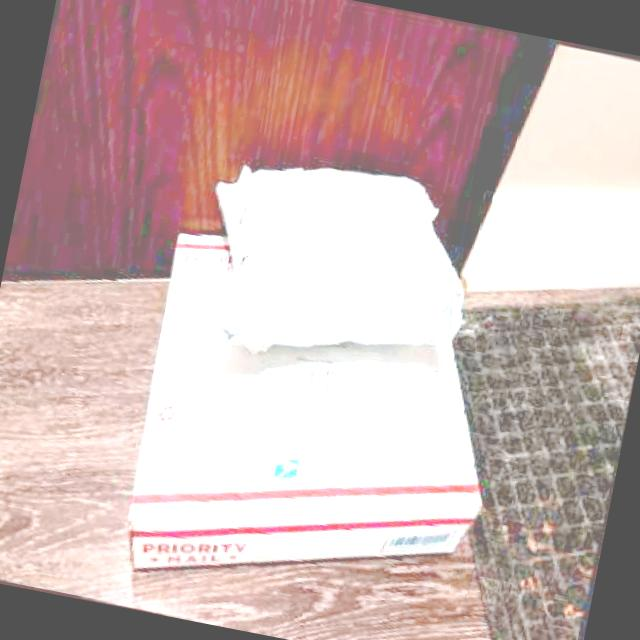Box: (104, 212, 532, 640), (178, 134, 495, 399)
